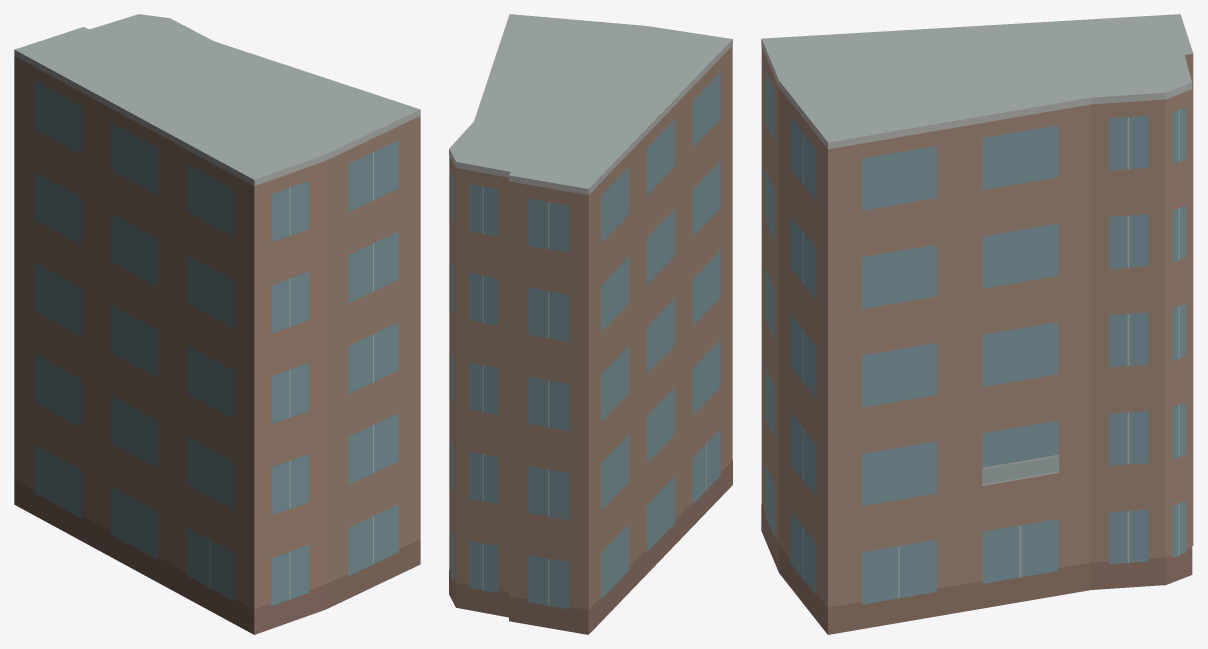
File: survey-upis-32714880.glb
The picture shows the model from 3 angles, left to right: view 1: azimuth 30°, elevation 25°; view 2: azimuth 150°, elevation 25°; view 3: azimuth 270°, elevation 25°; orthographic projection. The views are drawn at different scales.
Parts seen in each view (by area): view 1: survey-upis-32714880.tmp; view 2: survey-upis-32714880.tmp; view 3: survey-upis-32714880.tmp.
Boxes of the visible parts, <box> form: survey-upis-32714880.tmp: <box>14,14,420,634</box>; survey-upis-32714880.tmp: <box>449,14,732,634</box>; survey-upis-32714880.tmp: <box>761,14,1193,634</box>.
Size of the model in its own units: 9.95 by 17.75 by 14.13.
